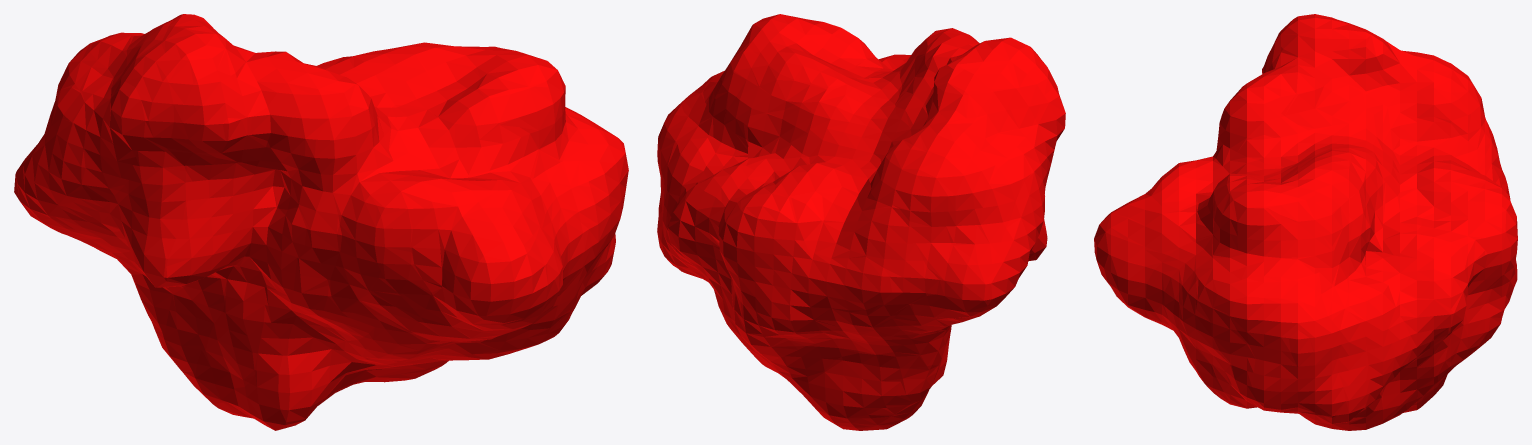
Rendered from purA_coarse.dae.
The picture shows the model from 3 angles, left to right: view 1: azimuth 30°, elevation 25°; view 2: azimuth 150°, elevation 25°; view 3: azimuth 270°, elevation 25°; orthographic projection. The views are drawn at different scales.
Parts seen in each view (by area): view 1: purA; view 2: purA; view 3: purA.
Boxes of the visible parts, box(x1,y1,x2,y2) form: purA: box(14, 14, 628, 430); purA: box(657, 14, 1065, 430); purA: box(1094, 14, 1517, 430).
Size of the model in its own units: 70.75 by 58.92 by 65.29.
